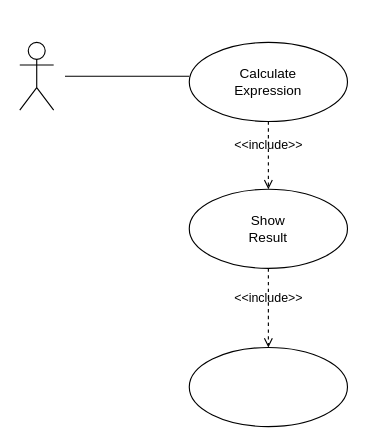
Some shapes in this 367 by 446 pixel diagram are drawn without their labels. Each missing label, with the centre of its shape:
"Confirm and Clear screen" belongs at [267,386].
"User" belongs at [36,75].
